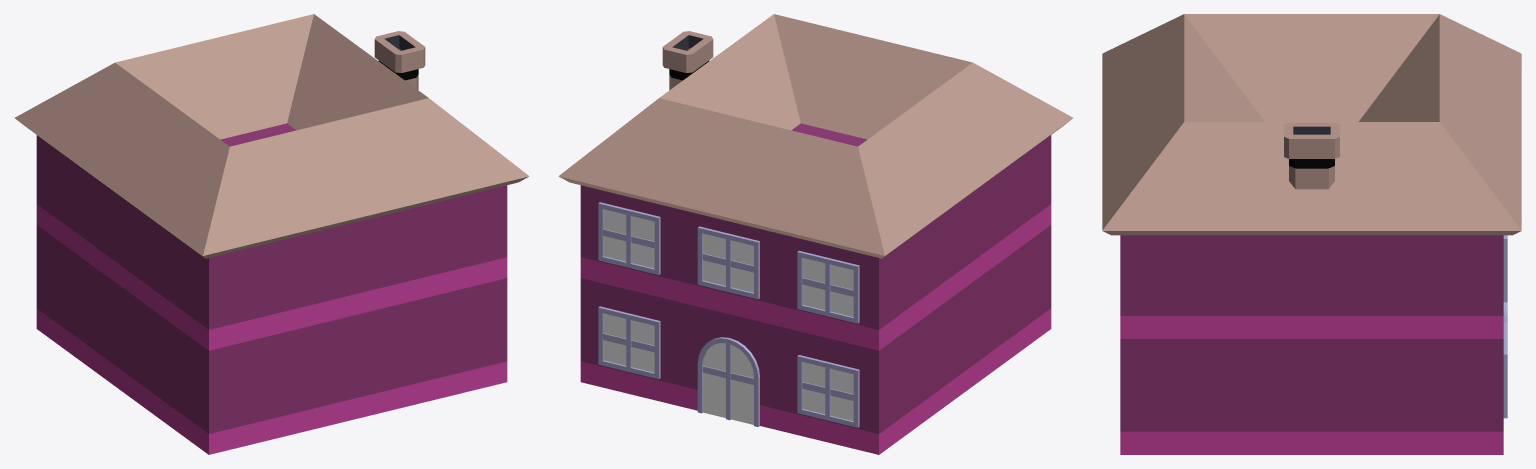
File: small_house_pink.fbx
3 views of the same model, side by side, from view 1: azimuth 30°, elevation 25°; view 2: azimuth 150°, elevation 25°; view 3: azimuth 270°, elevation 25° (orthographic). The views are drawn at different scales.
Parts seen in each view (by area): view 1: mergedBlocks; view 2: mergedBlocks; view 3: mergedBlocks.
Boxes of the visible parts, left/top/right/bottom form: mergedBlocks: left=15, top=14, right=529, bottom=454; mergedBlocks: left=558, top=14, right=1072, bottom=454; mergedBlocks: left=1102, top=14, right=1521, bottom=454.
Size of the model in its own units: 32.83 by 27 by 32.83.
